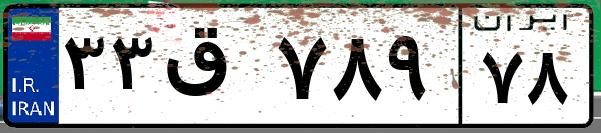3: (57, 26, 110, 100), (110, 28, 158, 98)
7: (270, 28, 330, 110), (475, 38, 525, 113)
8: (330, 28, 385, 110), (525, 38, 570, 115)
9: (385, 28, 445, 110)
ق: (158, 20, 270, 120)
